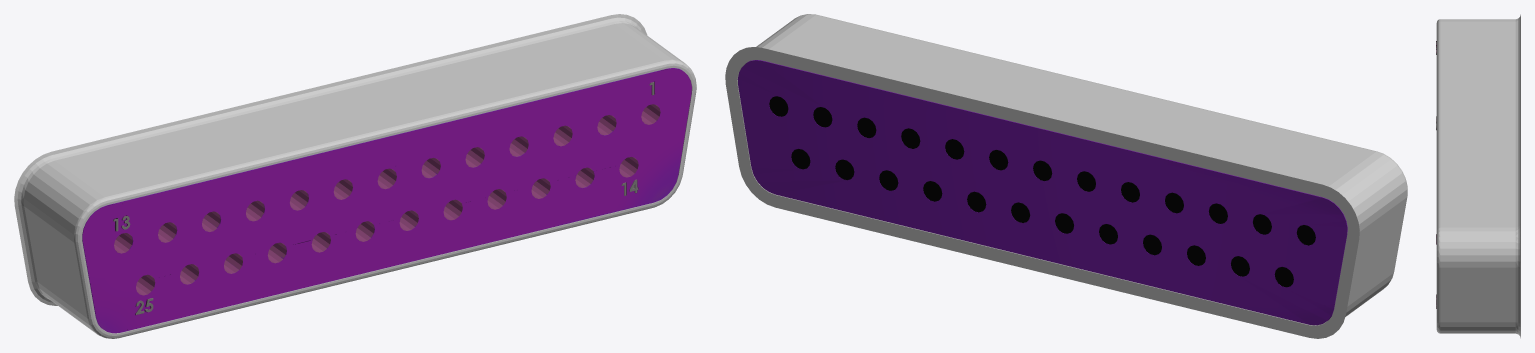
Rendered from Parallel.fbx.
3 renders of one model, left to right at view 1: azimuth 30°, elevation 25°; view 2: azimuth 150°, elevation 25°; view 3: azimuth 270°, elevation 25°, orthographic. The views are drawn at different scales.
Visible parts, largest first — view 1: plastic, shell; view 2: plastic, shell, numbers; view 3: shell.
Part boxes in pixels (x1,y1,x2,y2): plastic: [82, 68, 691, 333]; shell: [14, 14, 696, 338]; plastic: [737, 60, 1347, 325]; shell: [725, 14, 1407, 338]; numbers: [769, 96, 1315, 287]; shell: [1436, 14, 1520, 338].
Size of the model in its own units: 0.04 by 0.00942 by 0.00615.
